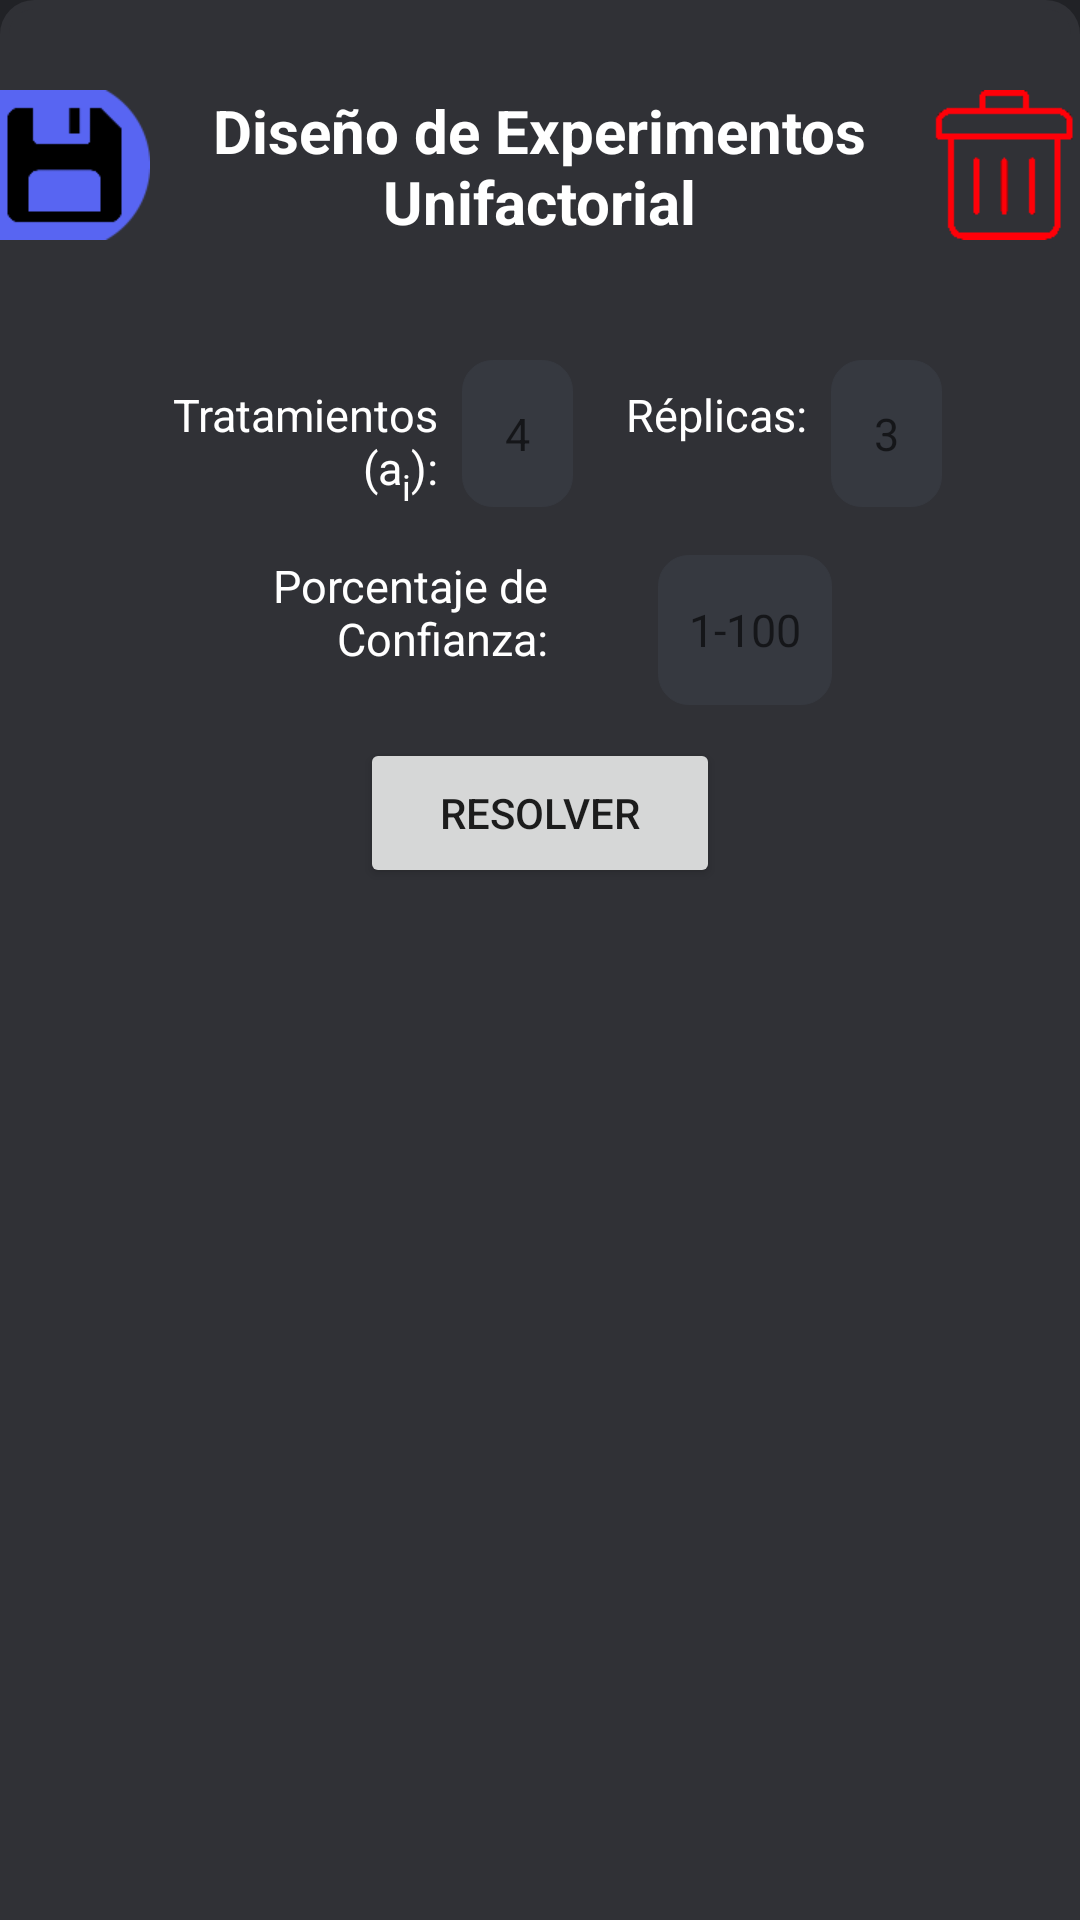

Screen size 1080×1920. Icon name, then its box in pixels as (x1, y1, x2, y2):
save: (0, 90, 150, 240)
trashicon: (935, 90, 1073, 240)
